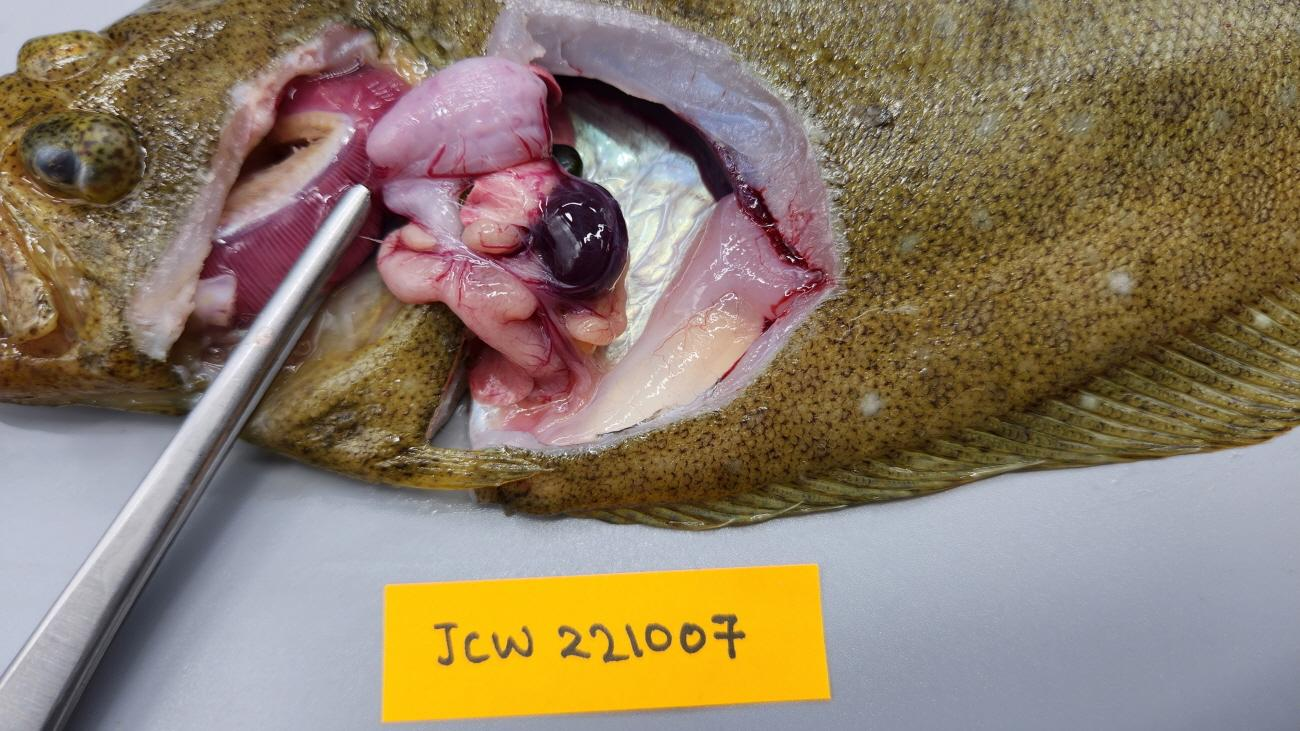POSPN: (529, 173, 628, 299)
